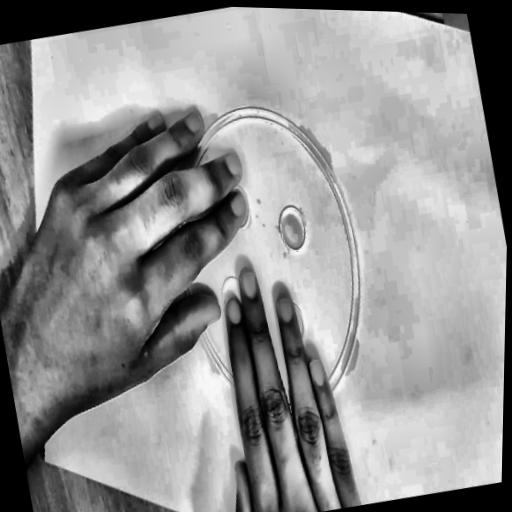bottom_right: (38, 450, 53, 469)
button: (175, 64, 372, 460)
